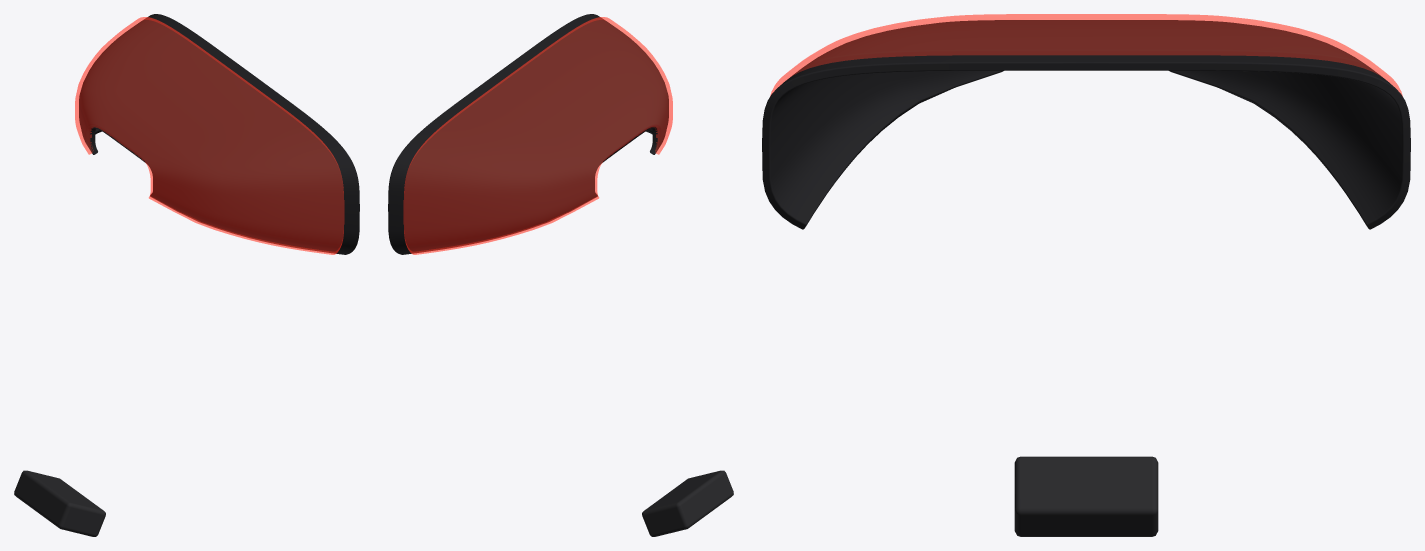
The model's file is bike_scooter__tail_light.glb.
3 views of the same model, side by side, from view 1: azimuth 30°, elevation 25°; view 2: azimuth 150°, elevation 25°; view 3: azimuth 270°, elevation 25° (orthographic). The views are drawn at different scales.
Visible parts, largest first — view 1: electrical__tail_light__housing, electrical__tail_light, electrical__number_plate_light; view 2: electrical__tail_light__housing, electrical__tail_light, electrical__number_plate_light; view 3: electrical__tail_light__housing, electrical__tail_light, electrical__number_plate_light.
Boxes of the visible parts, x1,y1,x2,y2 form: electrical__tail_light__housing: [79, 14, 359, 254]; electrical__tail_light: [75, 17, 344, 254]; electrical__number_plate_light: [14, 470, 105, 536]; electrical__tail_light__housing: [388, 14, 668, 254]; electrical__tail_light: [403, 17, 672, 254]; electrical__number_plate_light: [642, 470, 733, 536]; electrical__tail_light__housing: [762, 20, 1410, 229]; electrical__tail_light: [770, 14, 1402, 96]; electrical__number_plate_light: [1014, 456, 1158, 536].
Bounding box in the file's own units: 12.06 × 21.48 × 20.76.
